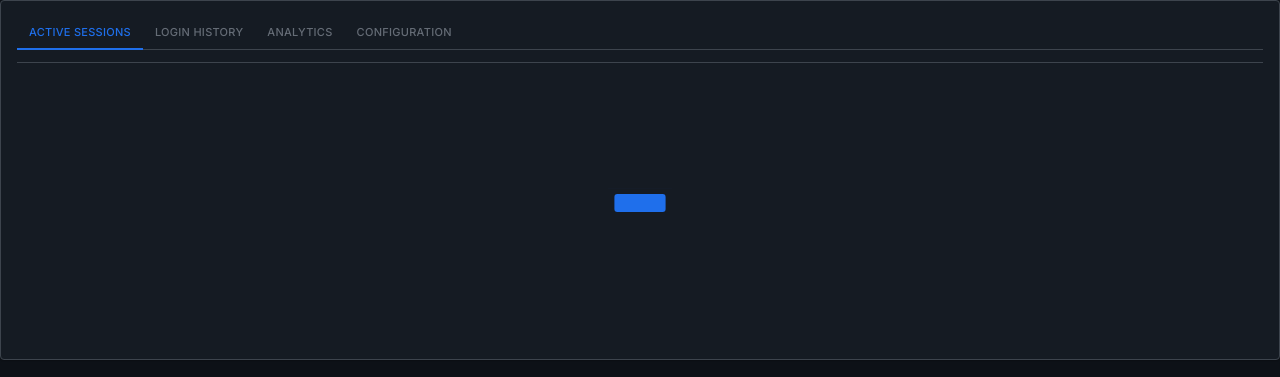
Test: SessionManagementPage › switches to Configuration tab
Click the tab "Configuration".
click(404, 34)  # box [345,17,464,50]
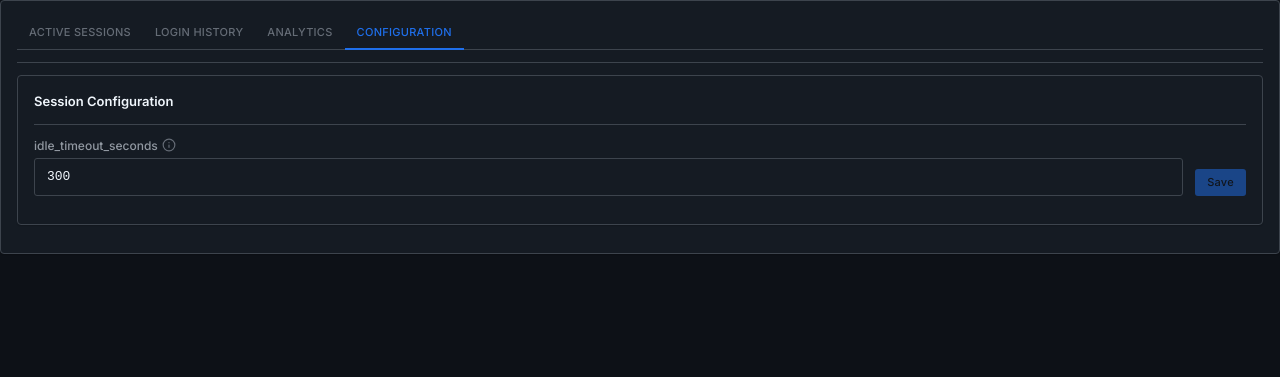
Expected: the heading "Session Configuration" is shown, [34,93,173,109]
